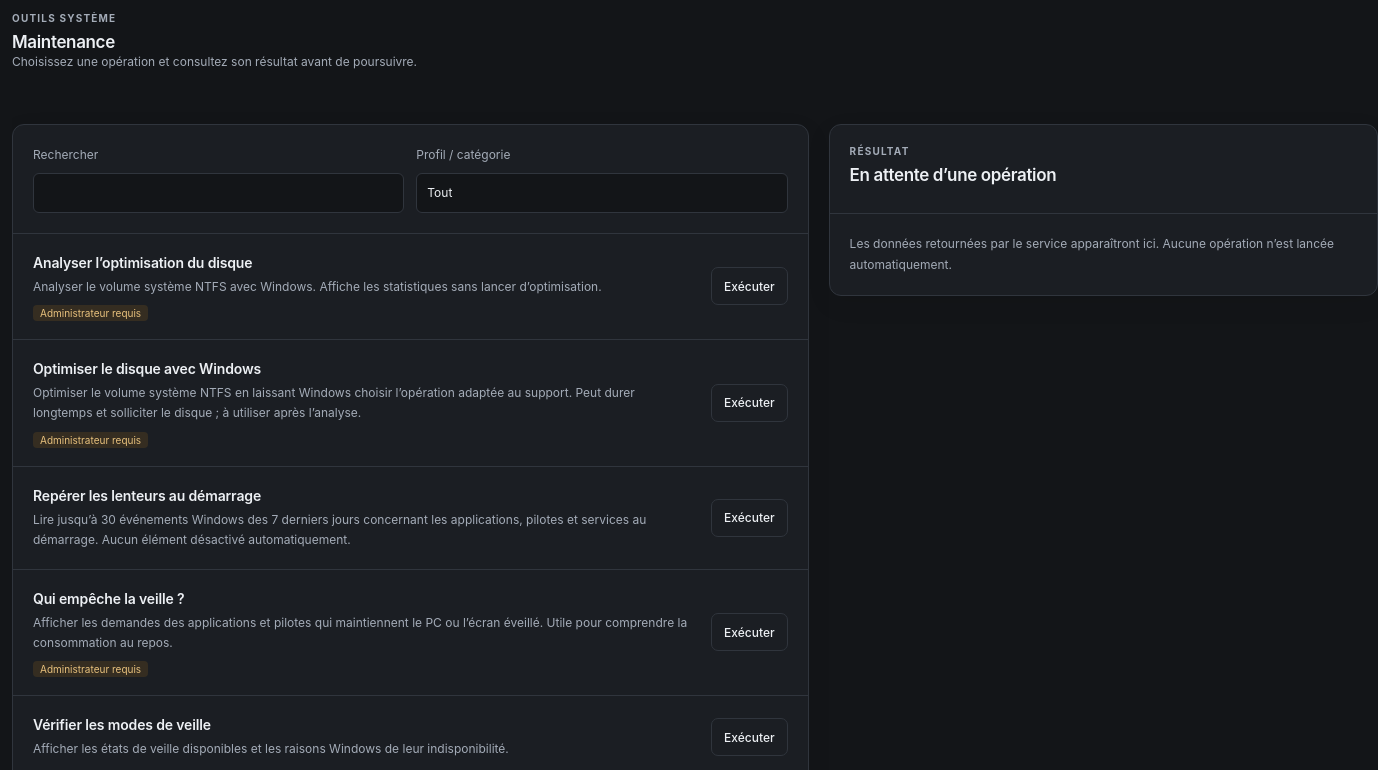
Test: confirmations et résultats de maintenance › conserve les résultats partiels quand Windows retourne une erreur
This screenshot has width=1378, height=770.
Click the button "Exécuter" in the row of "Analyser l’optimisation du disque" at (749, 286), box [711,267,788,305]
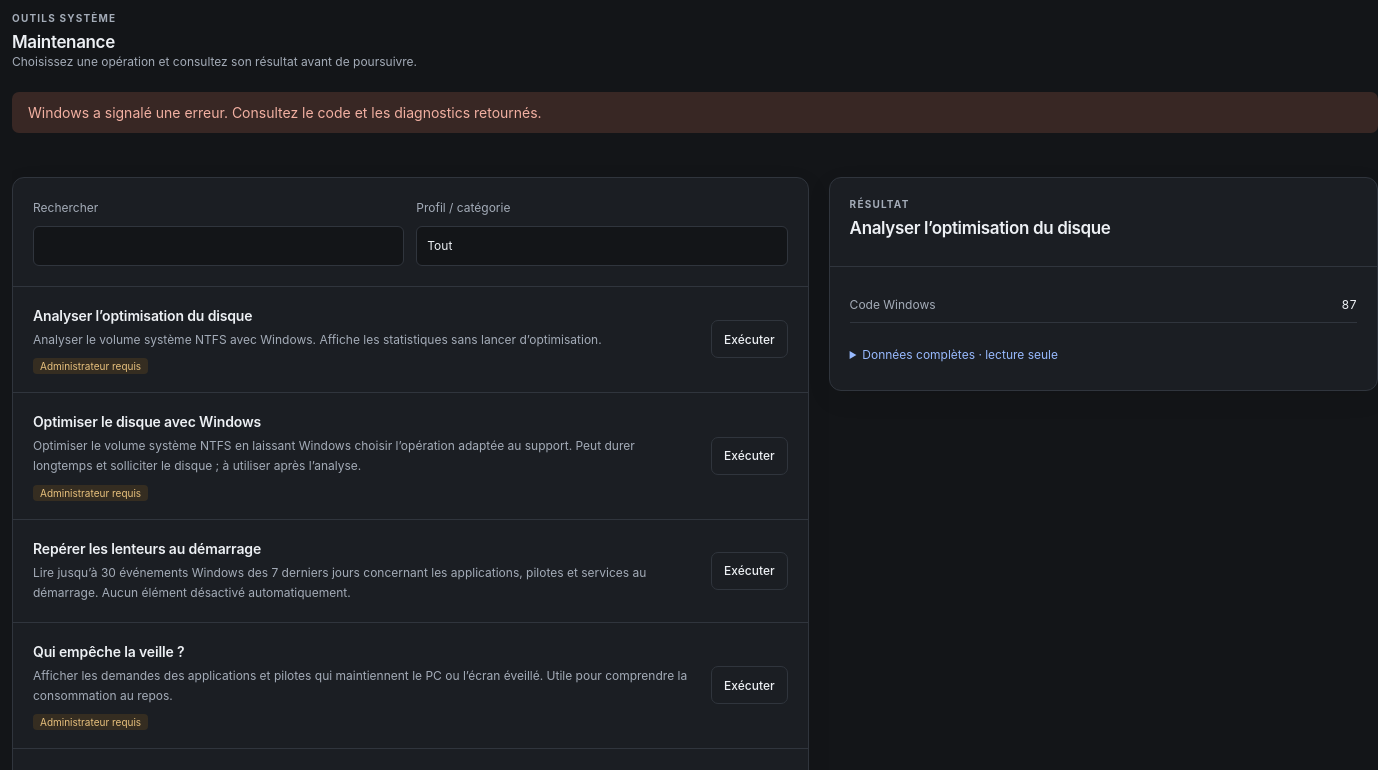
Check: the text "87" is shown, box [1341,297,1357,312]
Check: the text "Windows a signalé une erreur" is shown, box [28,104,542,121]
